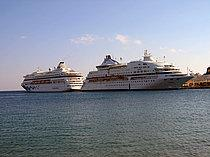Ship: (74, 49, 201, 96), (19, 61, 88, 95)
